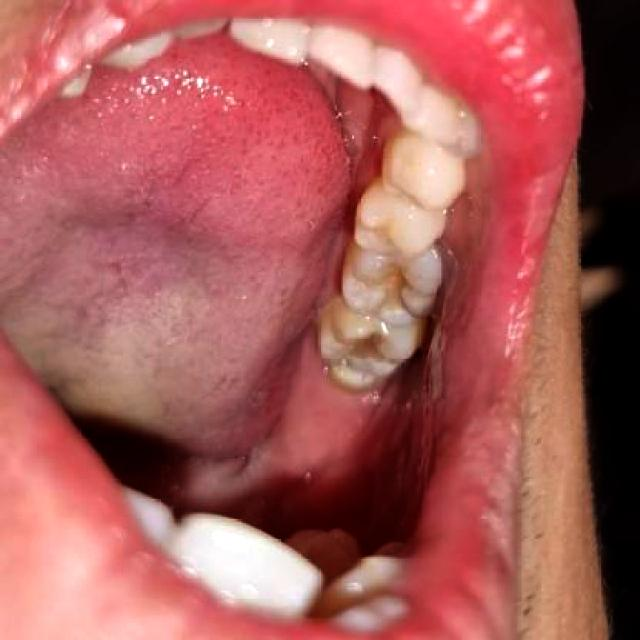Plaque: (342, 252, 429, 324), (330, 324, 401, 375)
